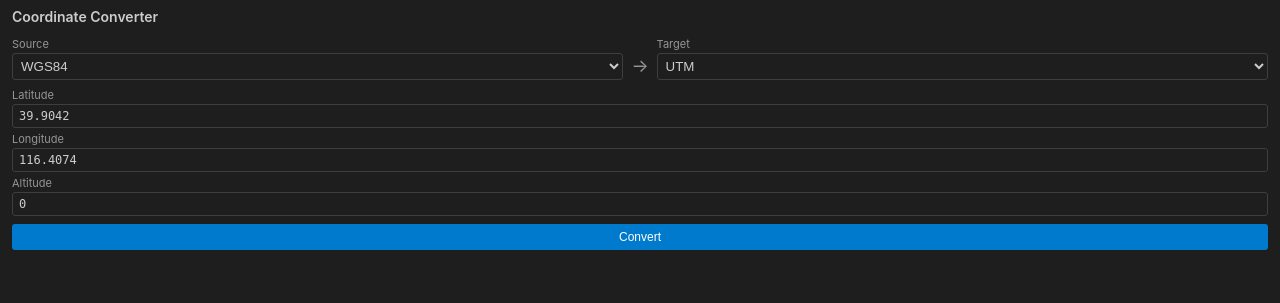
Test: GisToolsPanel › WGS84 → MGRS conversion shows MGRS result string
The width and height of the screenshot is (1280, 303).
Select "MGRS" in the dropdown labelled "Target" at (962, 66), box [657,53,1268,80]
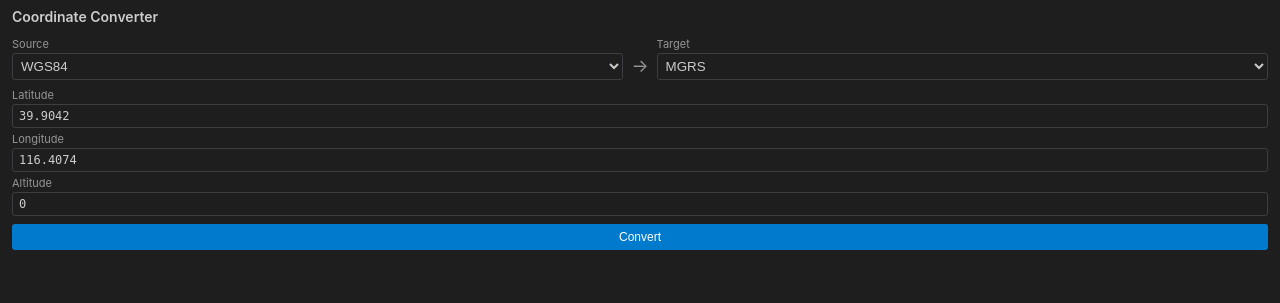
Click the button "Convert" at (640, 237), box [12,224,1268,250]
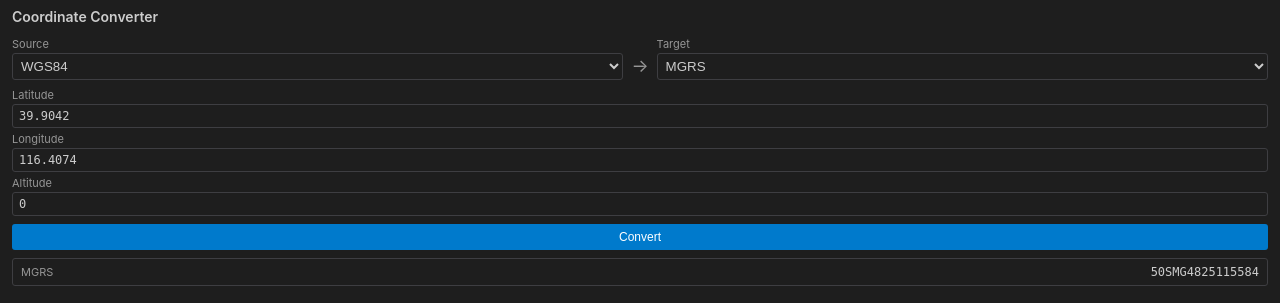
expect the text "50SMG4825115584" is shown: met, box [1151,265,1259,279]
